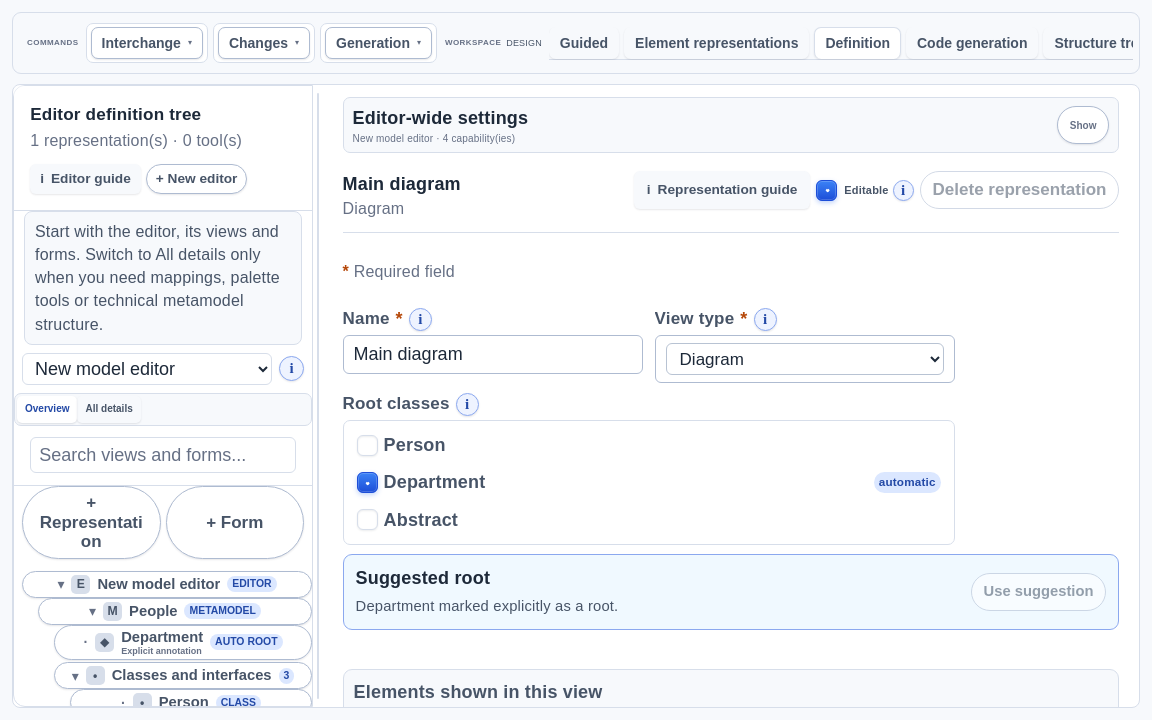
Scenario: model editor definition designer › opens editor and representation process guides from the left panel
Step 1. Click the button "i Editor guide" → (86, 179), box [30,164,141,194]
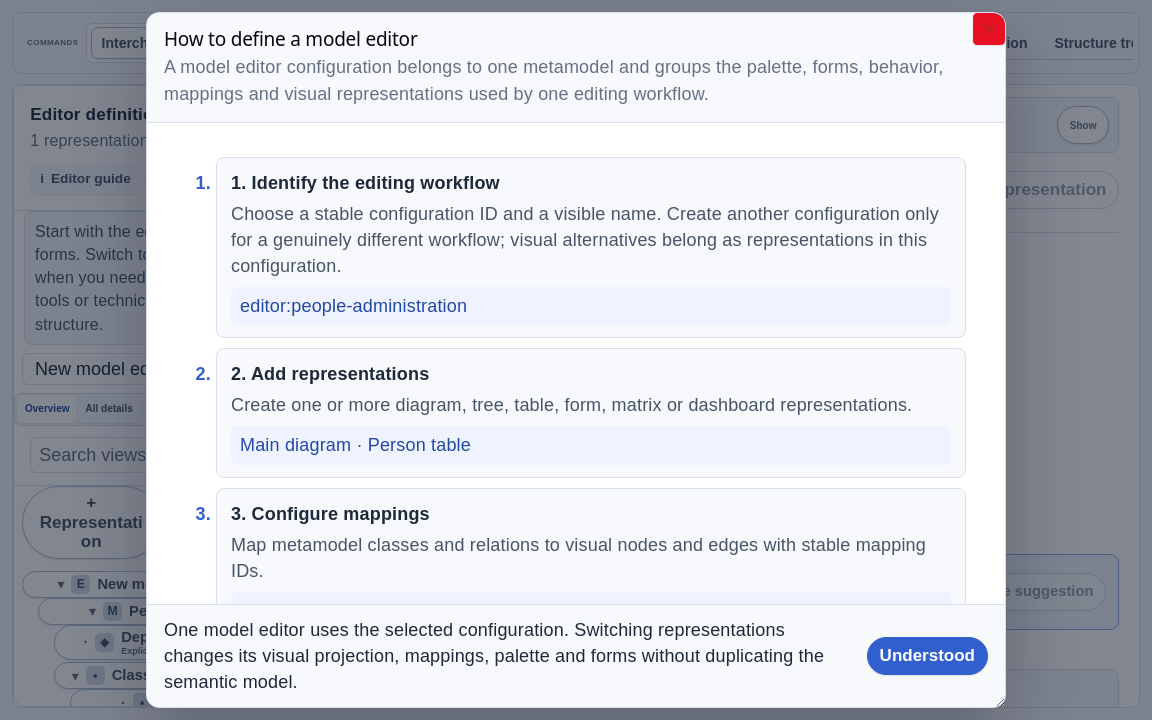
Expected: the dialog shows "How to define a model editor", [164,26,418,52]
Step 2. Click the button named "Close guide" → (989, 29), box [973,13,1005,45]
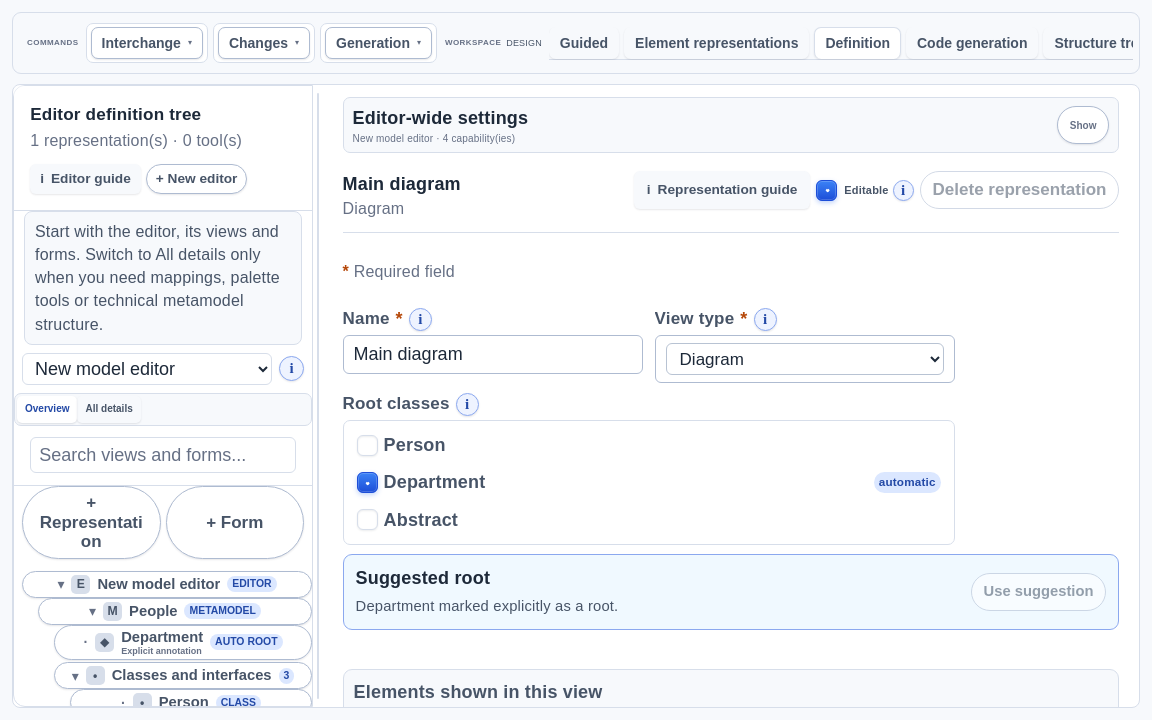
Step 3. Click the button "i Representation guide" → (722, 190), box [634,171,810,209]
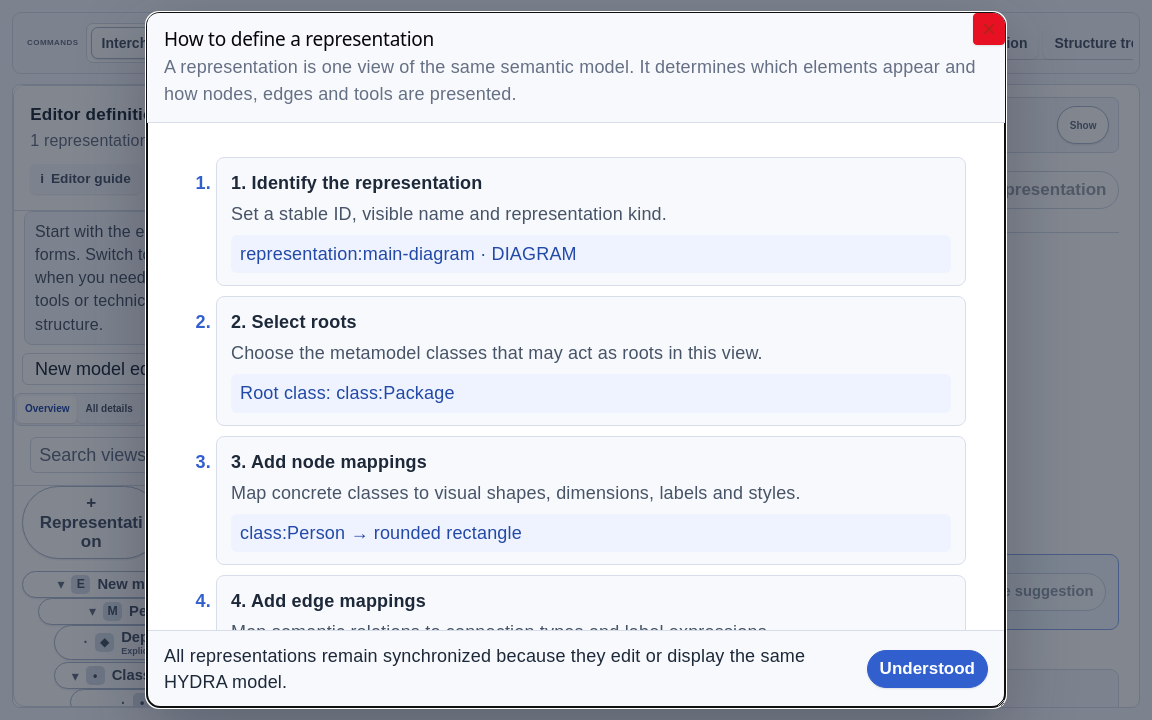
Expected: the dialog shows "How to define a representation", [164,26,434,52]
